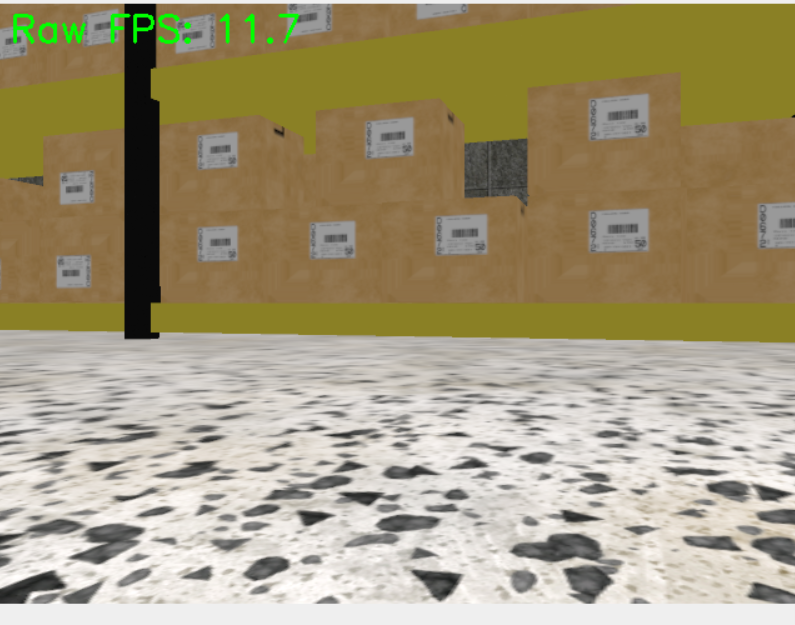barcode: (588, 207, 650, 254), (588, 94, 650, 139), (434, 213, 489, 256), (363, 117, 414, 159), (309, 220, 356, 260), (197, 132, 240, 170), (196, 226, 238, 262), (58, 169, 97, 206), (56, 256, 91, 288)
